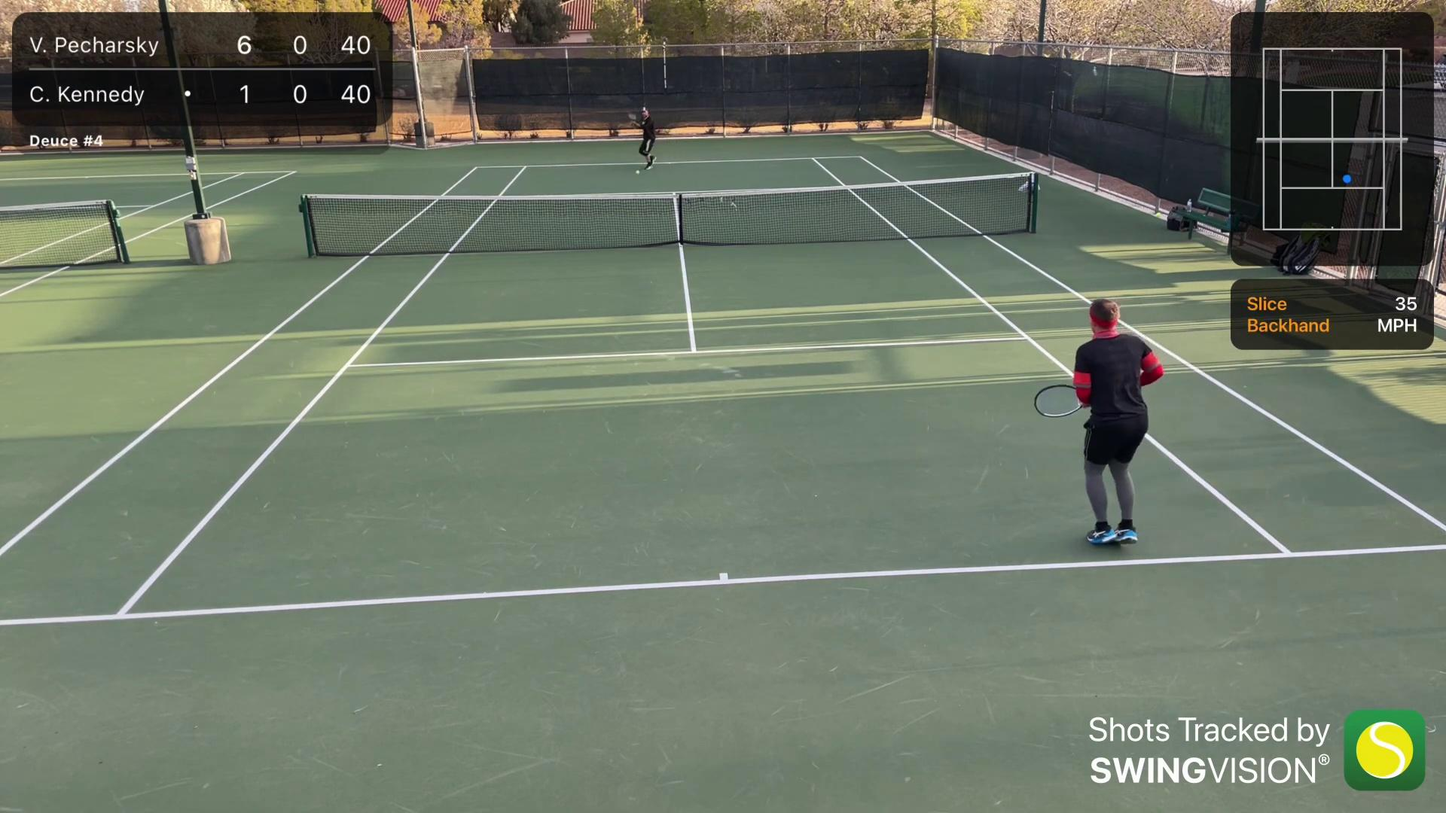ball: (634, 169, 641, 174)
